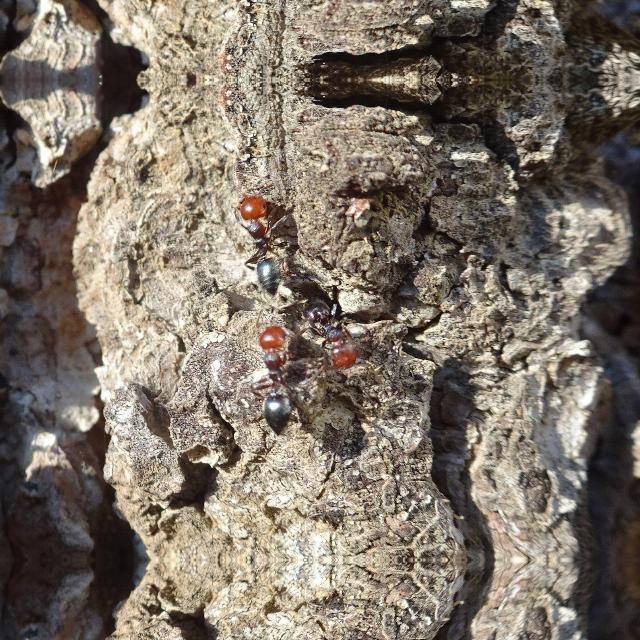Crematogaster: (242, 316, 300, 454), (232, 197, 290, 291), (308, 282, 360, 370)
